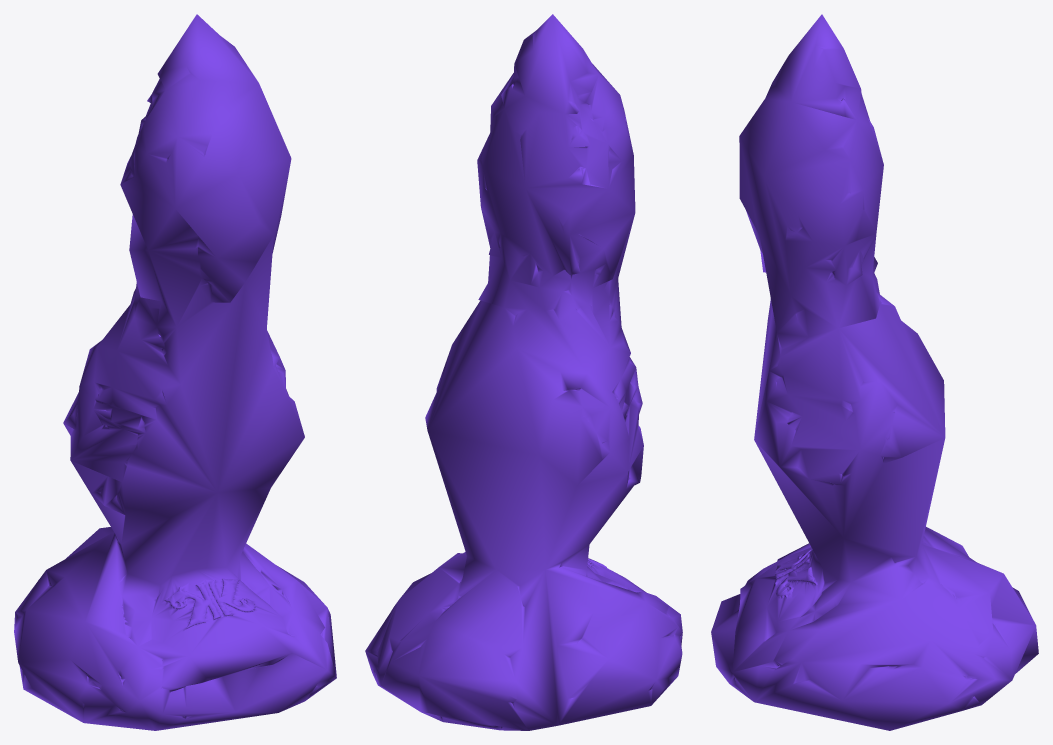
File: small-suction-ar.glb
The picture shows the model from 3 angles, left to right: view 1: azimuth 30°, elevation 25°; view 2: azimuth 150°, elevation 25°; view 3: azimuth 270°, elevation 25°; orthographic projection. The views are drawn at different scales.
Bounding box in the file's own units: 0.0907 × 0.2031 × 0.0928.
